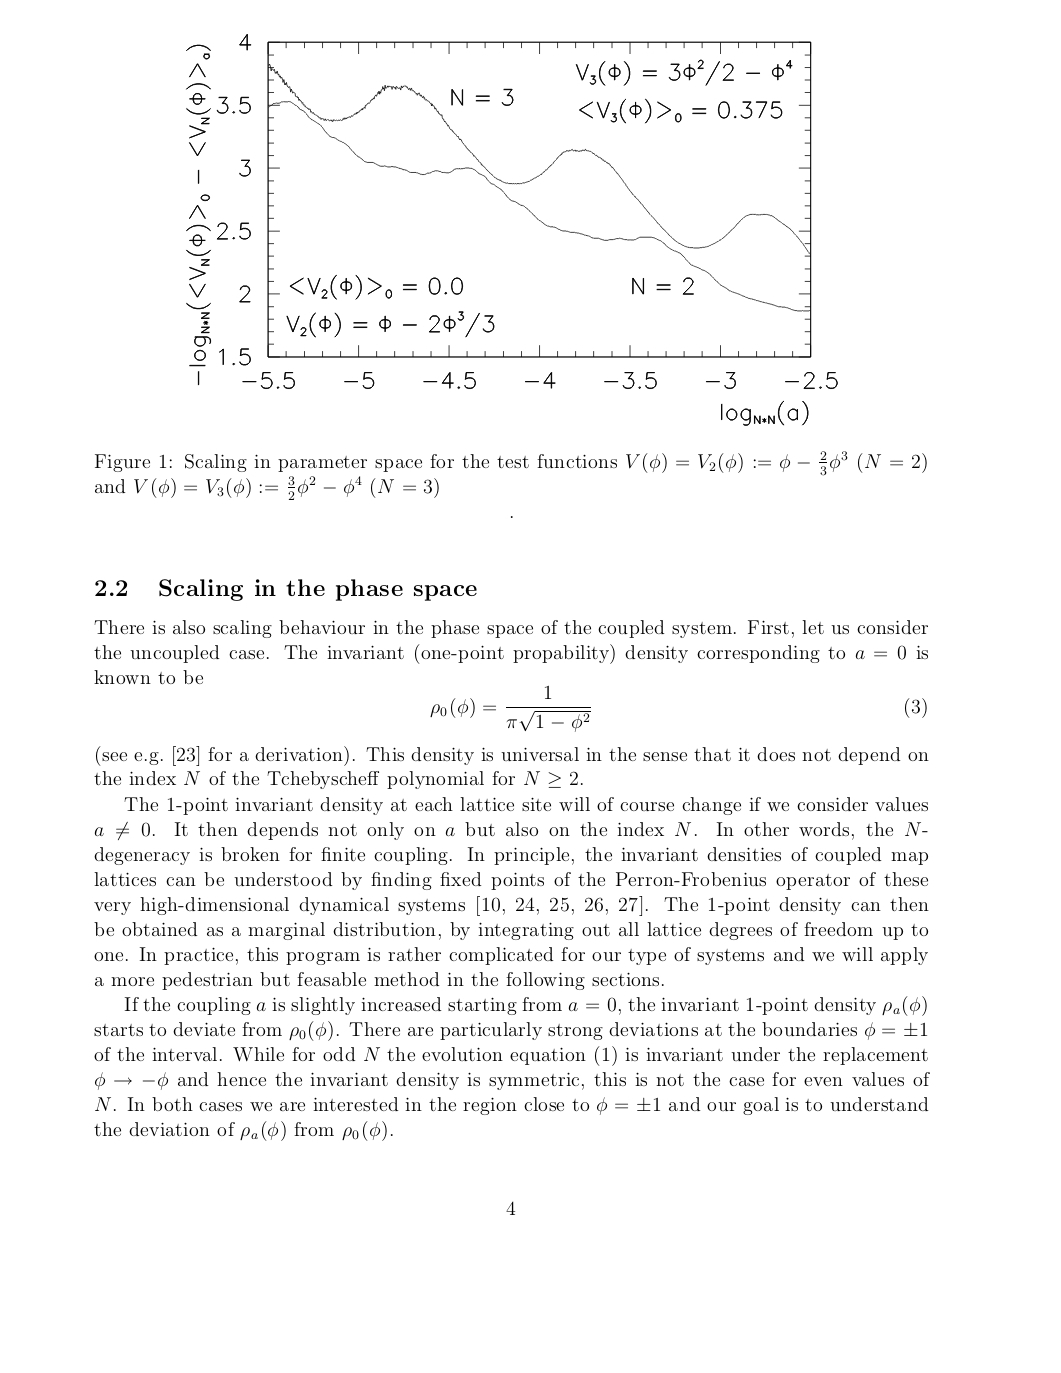figure: (185, 35, 837, 425)
formula: (430, 684, 926, 732)
